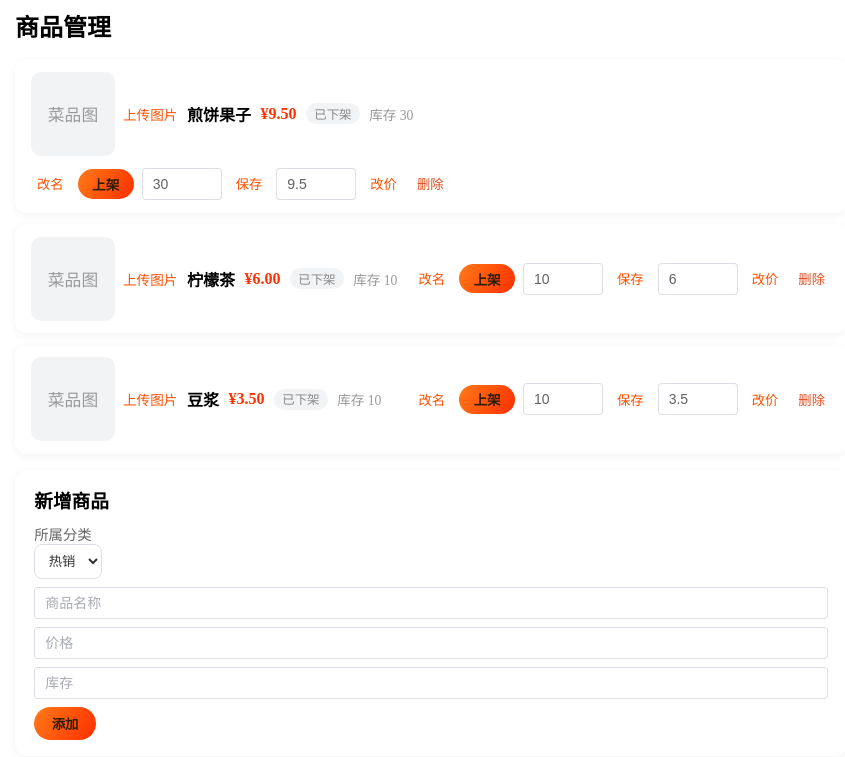
it: 商家商品管理 › 创建商品请求未完成时禁用创建按钮
This screenshot has width=845, height=757.
Select "热销" in the dropdown with test id "product-category" at (68, 561), box top-left (34, 544), bottom-right (102, 579)
Type "豆浆" into the field with placeholder "商品名称" at (431, 603), box top-left (45, 588), bottom-right (817, 618)
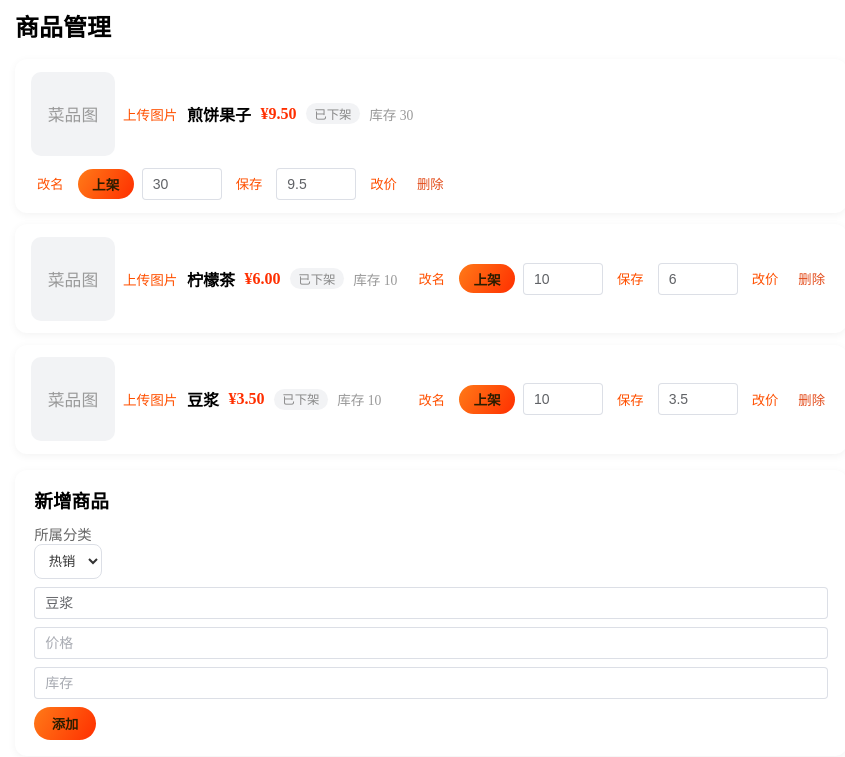
Type "3.5" into the field with placeholder "价格" at (431, 643), box top-left (45, 628), bottom-right (817, 658)
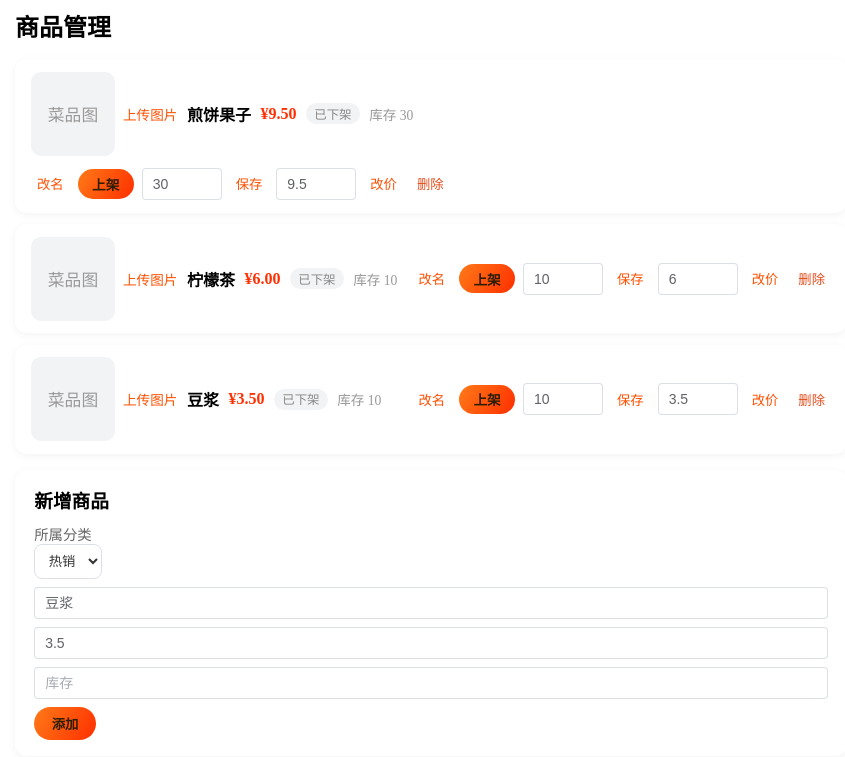
Type "10" into the field with placeholder "库存" at (431, 683), box top-left (45, 668), bottom-right (817, 698)
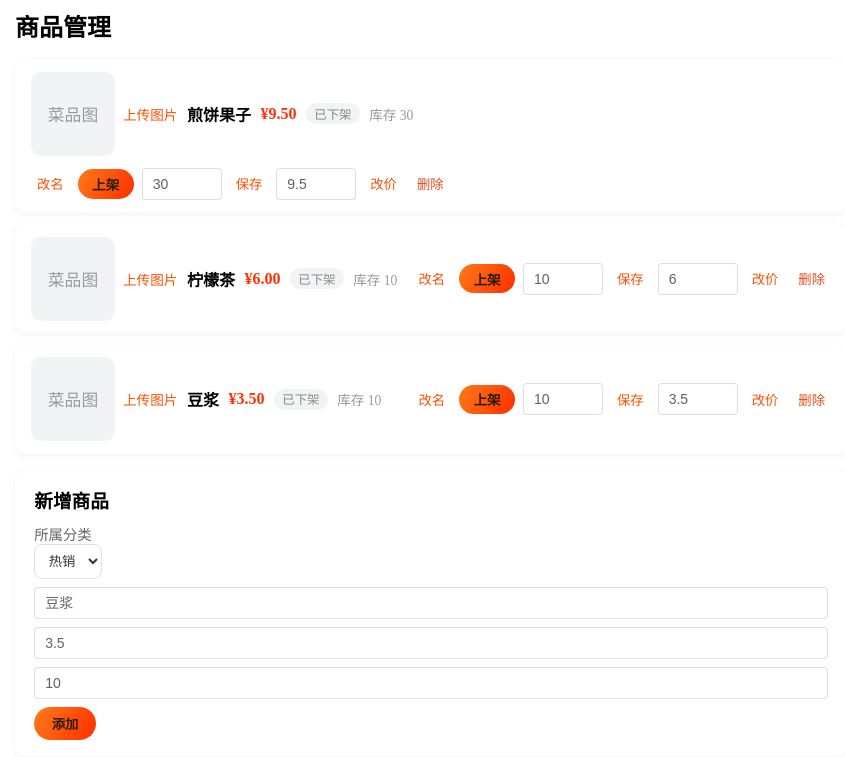
Click the button with test id "product-create-btn" at (65, 724), box top-left (34, 707), bottom-right (96, 740)
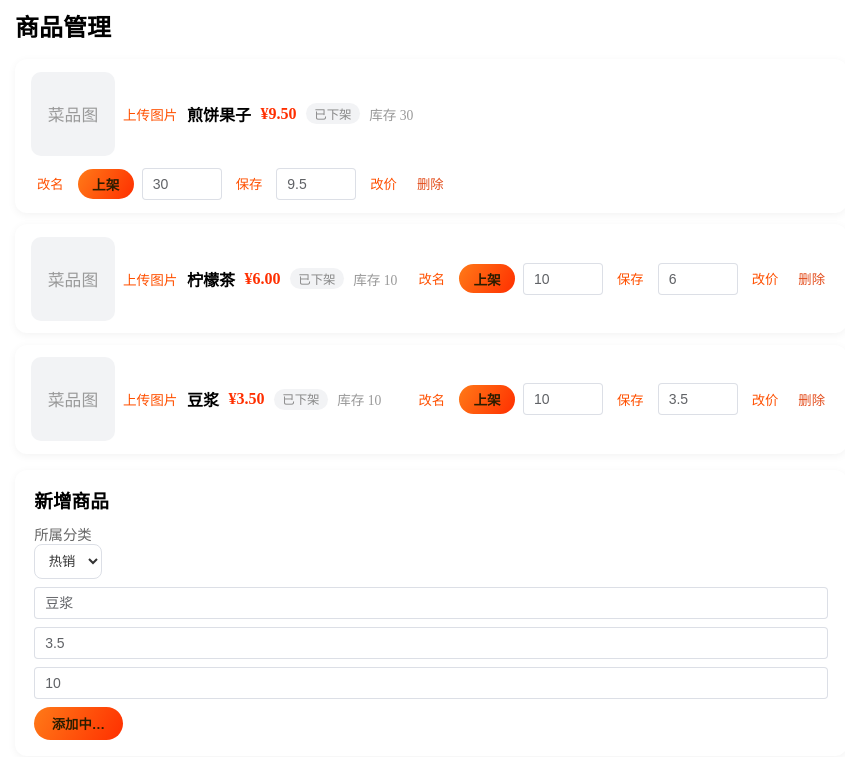
Result: the button with test id "product-create-btn" is disabled at top-left (34, 707), bottom-right (123, 740)
